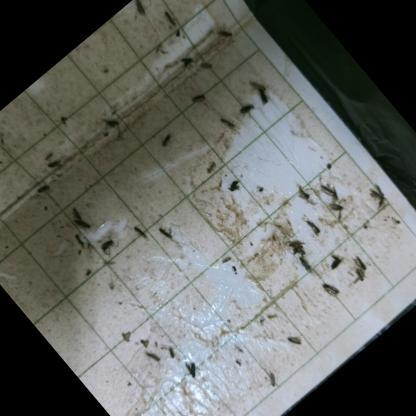prays_oleae: (96, 106, 130, 141), (316, 274, 346, 306), (153, 124, 183, 154), (29, 176, 58, 204), (210, 19, 238, 48), (320, 194, 348, 223), (138, 341, 166, 370), (127, 216, 154, 246), (64, 226, 91, 256), (42, 151, 70, 179), (171, 46, 199, 74), (152, 218, 180, 246), (300, 212, 326, 242), (184, 84, 211, 112), (216, 110, 243, 138), (235, 96, 262, 124), (95, 232, 122, 260), (179, 356, 206, 384), (281, 324, 308, 352), (366, 182, 392, 210), (197, 152, 223, 179), (321, 246, 347, 272), (344, 260, 369, 287), (220, 172, 245, 198), (296, 252, 321, 278), (294, 184, 318, 211), (127, 0, 155, 23), (287, 241, 311, 266), (285, 233, 309, 258), (160, 6, 184, 30), (251, 84, 275, 108), (72, 212, 96, 236), (259, 367, 283, 391), (246, 73, 269, 97), (350, 252, 373, 276), (159, 340, 182, 364), (314, 176, 334, 197), (196, 54, 216, 74), (66, 202, 85, 221), (327, 184, 345, 203), (136, 331, 154, 349), (80, 265, 95, 280), (255, 182, 269, 196), (389, 212, 402, 226)
